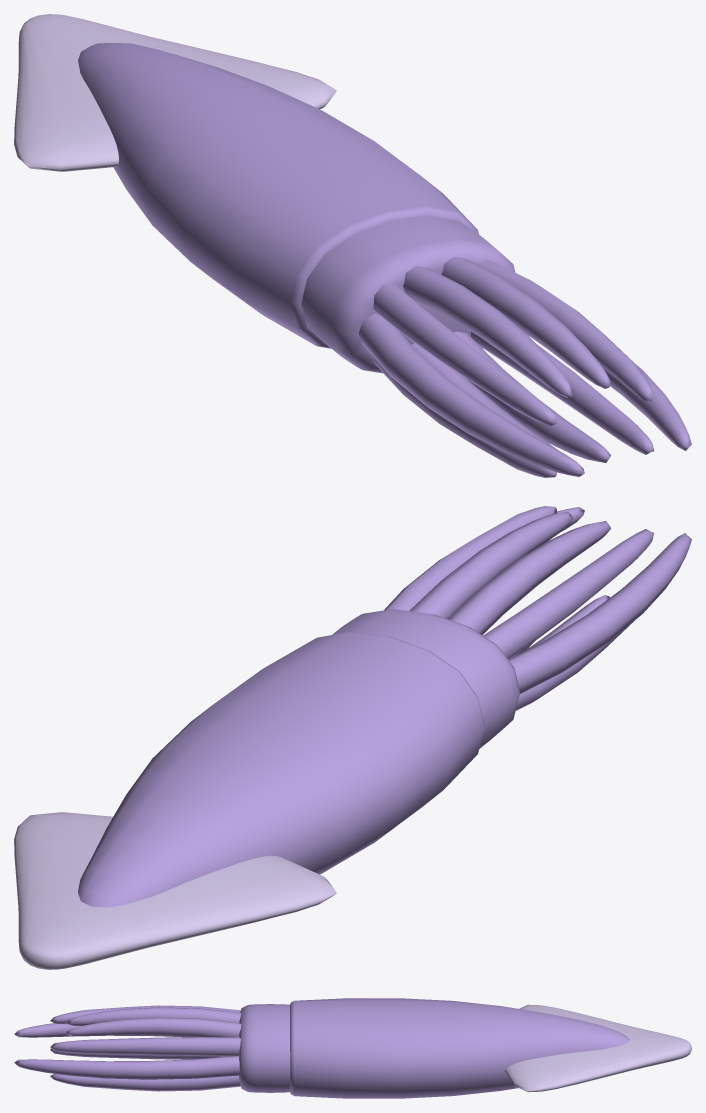
File: Squid_3.fbx
3 renders of one model, top to bottom at view 1: azimuth 30°, elevation 25°; view 2: azimuth 150°, elevation 25°; view 3: azimuth 270°, elevation 25°, orthographic. The views are drawn at different scales.
Parts seen in each view (by area): view 1: Squid_3; view 2: Squid_3; view 3: Squid_3.
Boxes of the visible parts, <box> form: Squid_3: <box>14,14,691,477</box>; Squid_3: <box>14,506,691,969</box>; Squid_3: <box>14,998,691,1098</box>.
Size of the model in its own units: 16.29 by 6.85 by 54.68.
